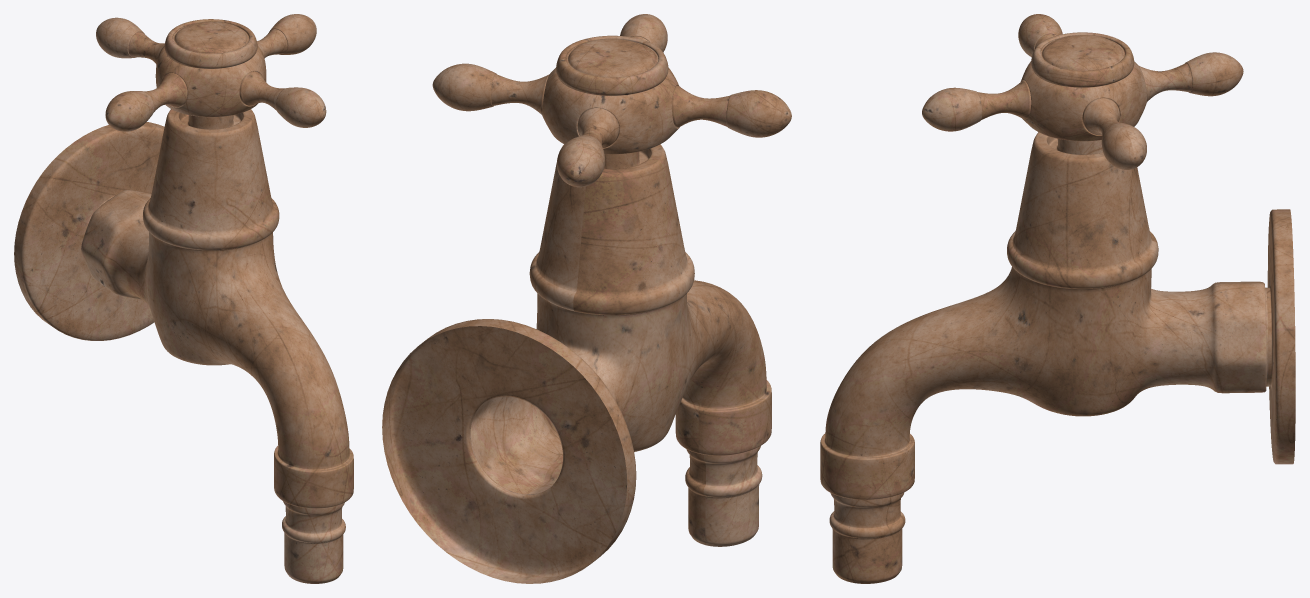
File: Grifo_Sketchfab.fbx
The picture shows the model from 3 angles, left to right: view 1: azimuth 30°, elevation 25°; view 2: azimuth 150°, elevation 25°; view 3: azimuth 270°, elevation 25°; orthographic projection. The views are drawn at different scales.
Parts seen in each view (by area): view 1: Cylinder002, group3; view 2: Cylinder002, group3; view 3: Cylinder002, group3.
Part boxes in pixels (<box>): Cylinder002: <box>14,109,353,583</box>; group3: <box>96,14,326,131</box>; Cylinder002: <box>382,144,771,583</box>; group3: <box>432,14,791,187</box>; Cylinder002: <box>820,132,1295,583</box>; group3: <box>922,14,1243,169</box>.
Bounding box in the file's own units: 39.94 × 71.29 × 59.06.
Materials: 1 (1 with a texture image).
